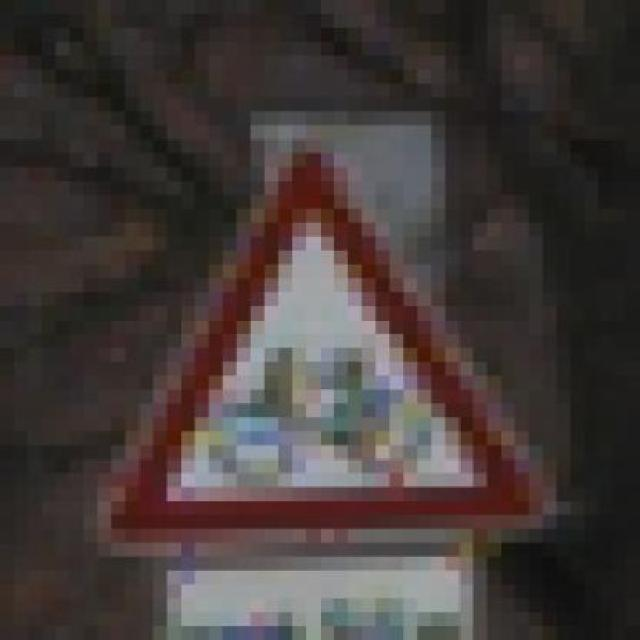CYCLE ROUTE AHEAD WARNING: (69, 139, 571, 556)
